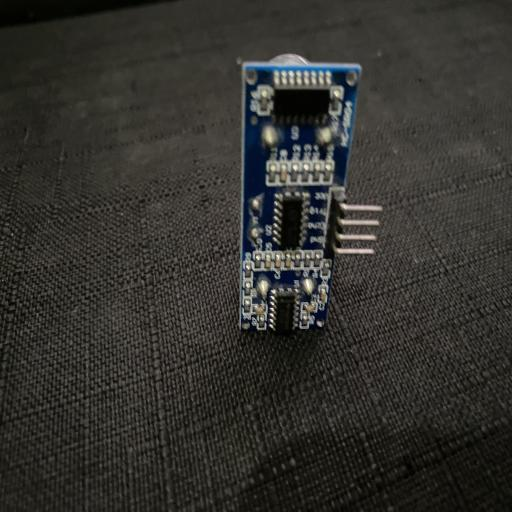Ultrasonic Sensor: (237, 53, 383, 332)
